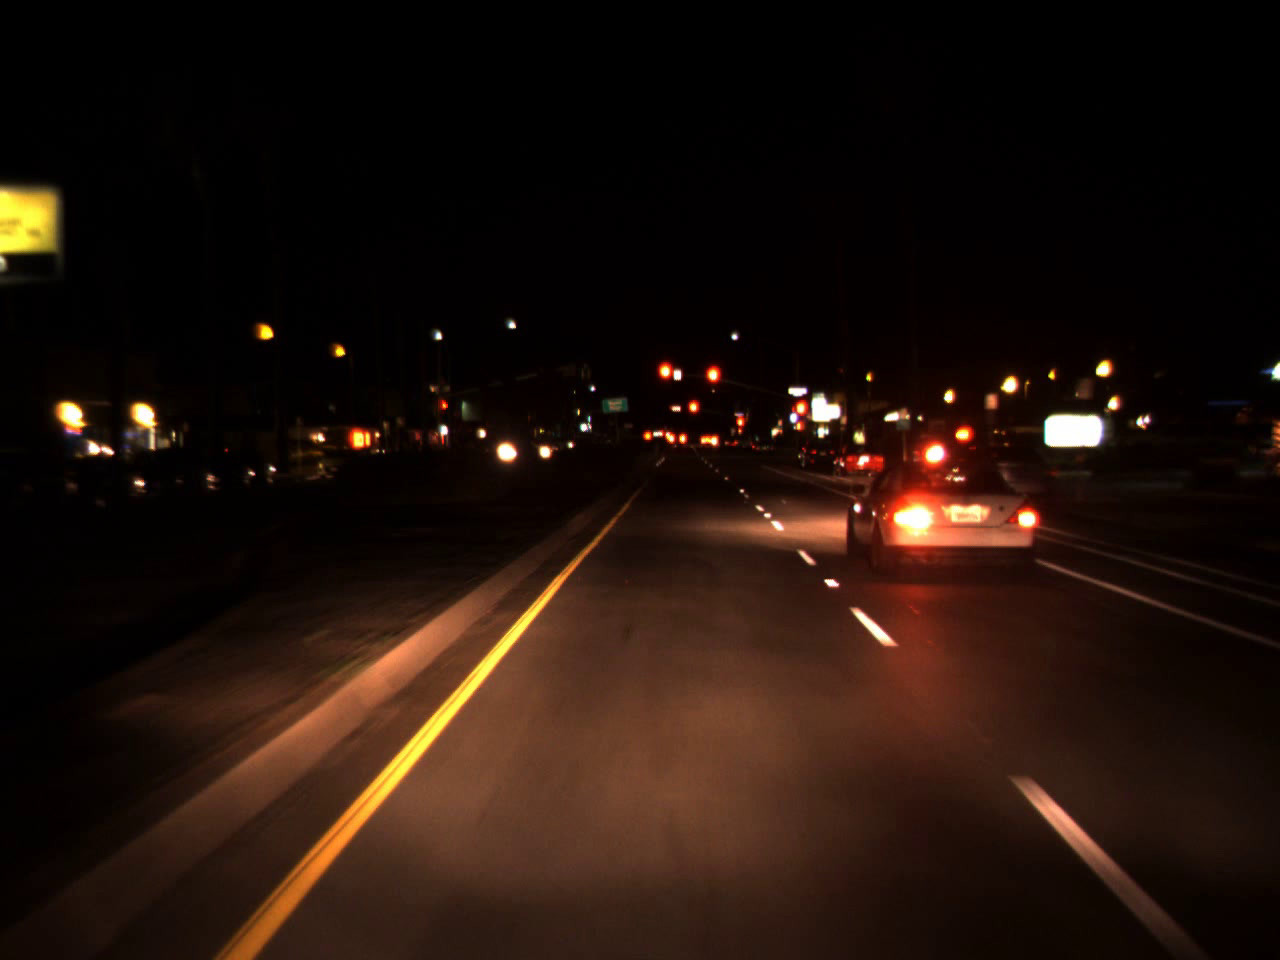stop: (655, 359, 677, 399), (703, 363, 722, 403), (793, 399, 808, 431), (686, 397, 699, 429), (735, 413, 745, 437), (440, 399, 449, 417)
